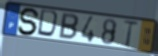4: (80, 15, 96, 43)
8: (101, 18, 118, 46)
B: (58, 12, 80, 41)
D: (36, 9, 61, 40)
S: (17, 7, 42, 37)
T: (122, 20, 140, 49)
